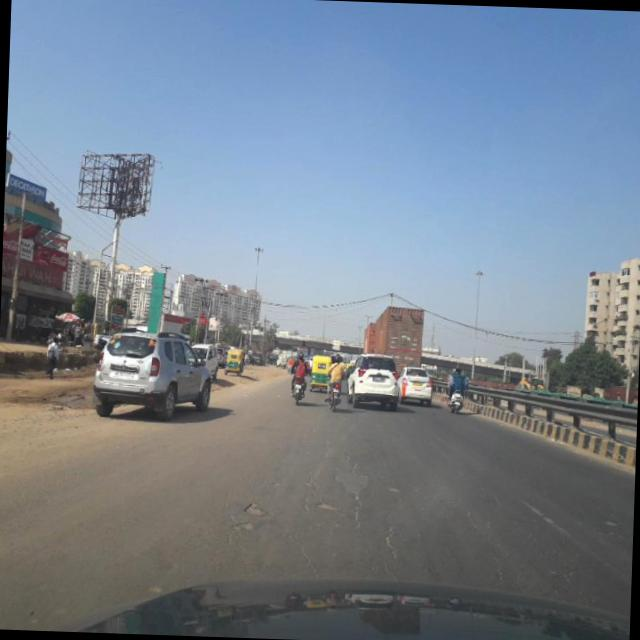crack: (456, 484, 512, 586), (374, 454, 409, 578)
pothole: (228, 488, 272, 544), (335, 458, 367, 508), (312, 494, 348, 518)
